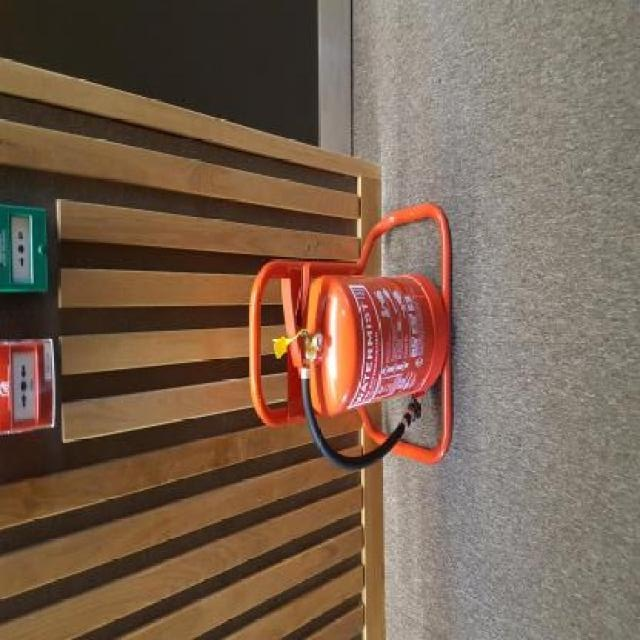fire extinguisher: (279, 260, 446, 474)
